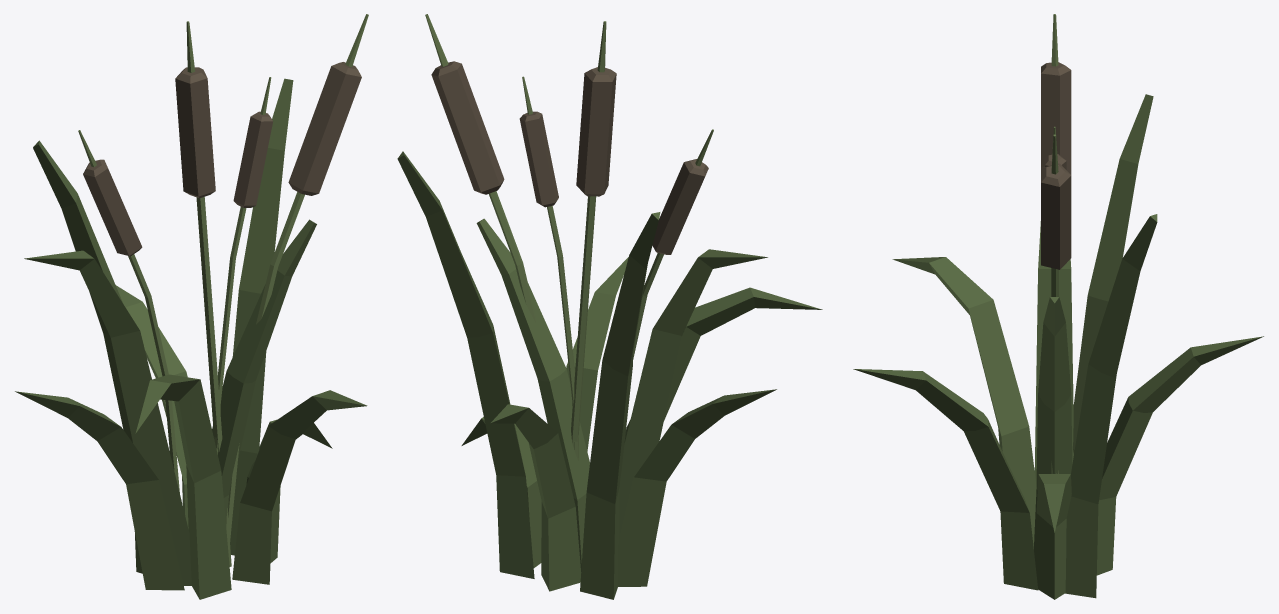
The model's file is SM_Envr_Nature_Plant_Reed_03.fbx.
3 renders of one model, left to right at view 1: azimuth 30°, elevation 25°; view 2: azimuth 150°, elevation 25°; view 3: azimuth 270°, elevation 25°, orthographic. The views are drawn at different scales.
Parts seen in each view (by area): view 1: SM_Envr_Nature_Plant_Reed_03; view 2: SM_Envr_Nature_Plant_Reed_03; view 3: SM_Envr_Nature_Plant_Reed_03.
Part boxes in pixels (<box>): SM_Envr_Nature_Plant_Reed_03: <box>15,14,368,599</box>; SM_Envr_Nature_Plant_Reed_03: <box>397,14,822,599</box>; SM_Envr_Nature_Plant_Reed_03: <box>853,14,1263,599</box>.
Size of the model in its own units: 62.51 by 94.44 by 64.71.
